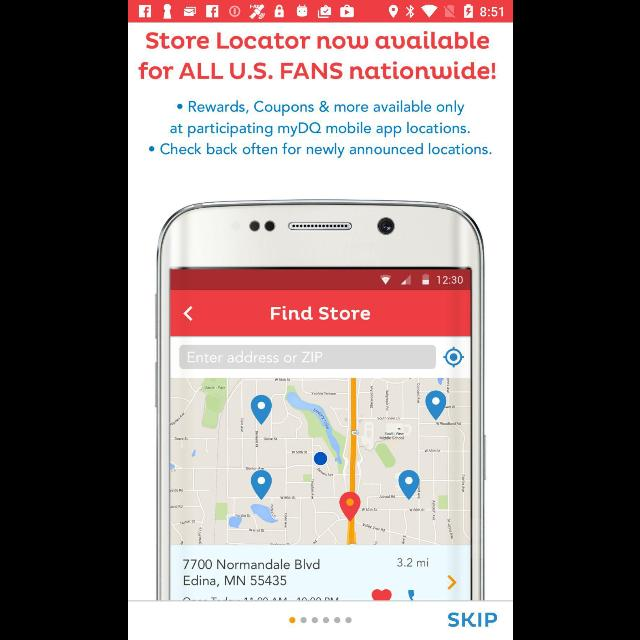image: (154, 199, 484, 601)
pageindicator: (288, 616, 352, 624)
text: (148, 100, 492, 158), (138, 30, 496, 80), (448, 612, 497, 628)
uppertaskbar: (128, 1, 512, 23)
